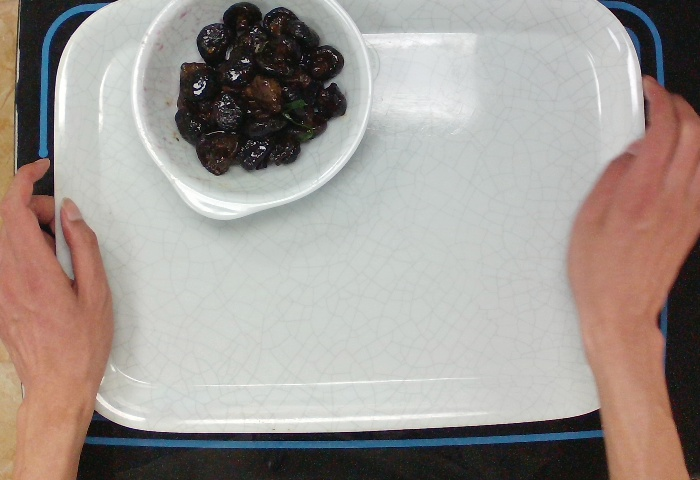JYsf-Shuang_Er_Wan: (127, 1, 376, 224)
